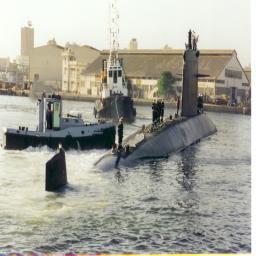submarine: (46, 30, 224, 194)
